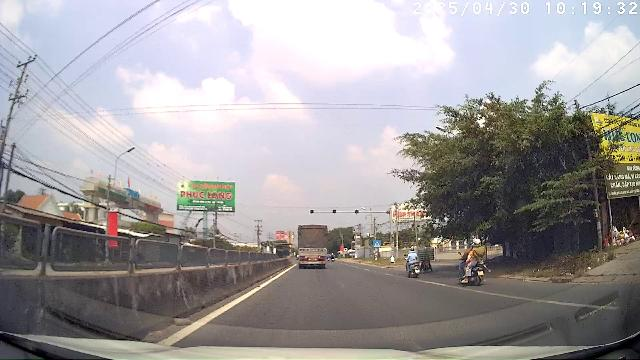423a-duong-nguoi-di-bo-sang-ngang-1: (374, 241, 381, 248)
